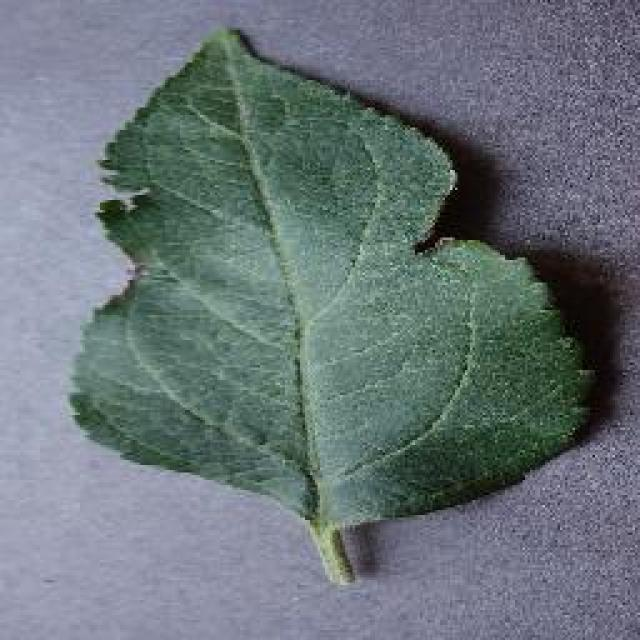apple healthy: (65, 23, 600, 585)
